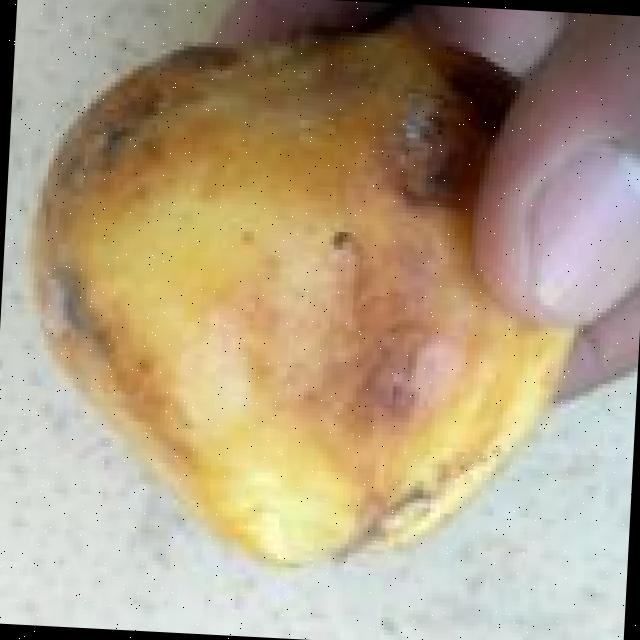Bad_Guava 0 day: (38, 29, 573, 564)
